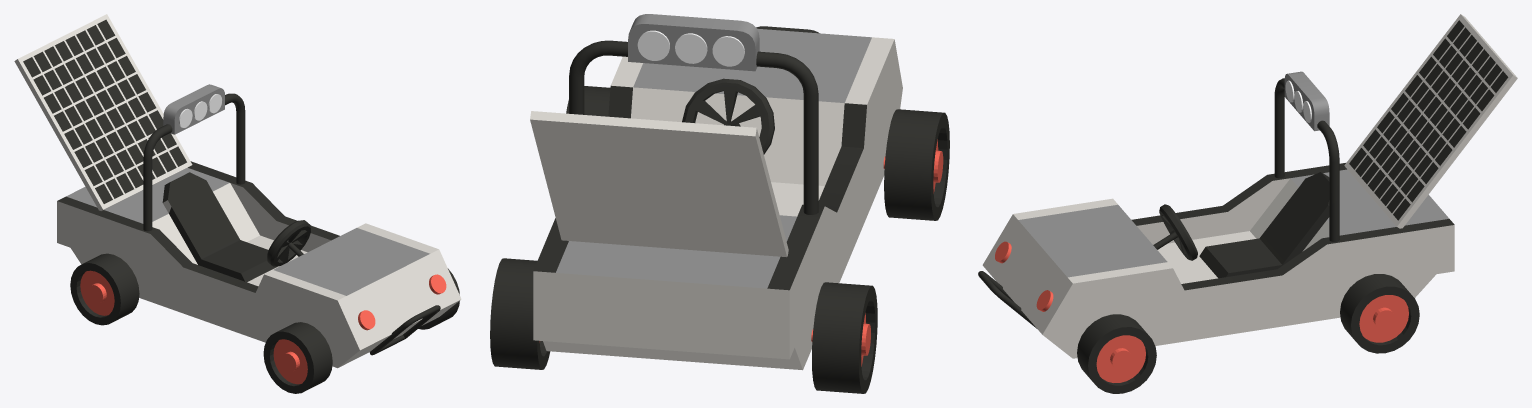
The model's file is 03 Space_buggy.FBX.
The picture shows the model from 3 angles, left to right: view 1: azimuth 30°, elevation 25°; view 2: azimuth 150°, elevation 25°; view 3: azimuth 270°, elevation 25°; orthographic projection. The views are drawn at different scales.
Parts seen in each view (by area): view 1: Space_buggy; view 2: Space_buggy; view 3: Space_buggy.
Boxes of the visible parts, bbox=[...] form: Space_buggy: bbox=[14, 14, 461, 393]; Space_buggy: bbox=[490, 14, 949, 393]; Space_buggy: bbox=[978, 14, 1517, 393].
Size of the model in its own units: 1392 by 1016 by 2101.
